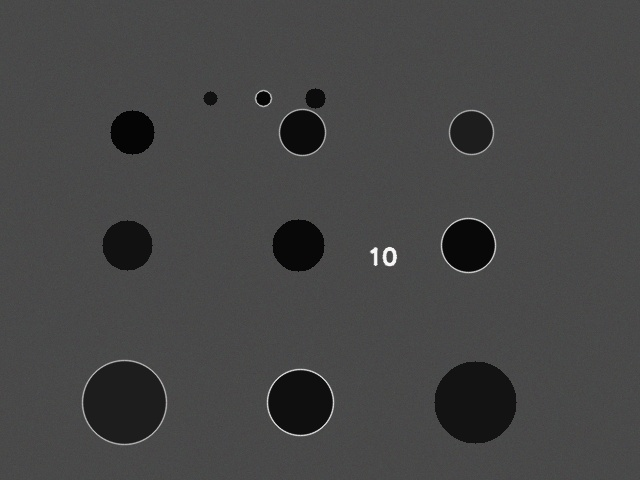hole: (82, 360, 166, 444), (434, 361, 516, 443), (267, 369, 333, 435), (441, 218, 495, 272), (272, 219, 324, 271), (102, 220, 152, 270), (279, 109, 325, 155), (110, 110, 154, 154), (449, 110, 493, 154), (305, 88, 325, 108), (255, 90, 271, 106), (203, 91, 217, 105)
